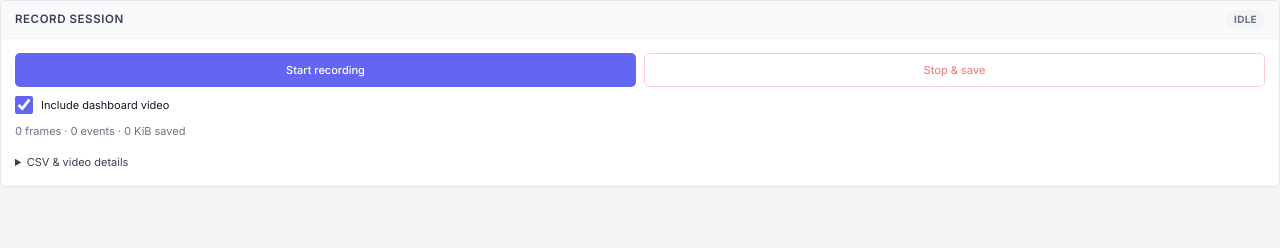
Scenario: compact recorder keeps start/stop and errors visible while help is collapsed
Click the button "Start recording" at (326,70), box [15,53,636,87]
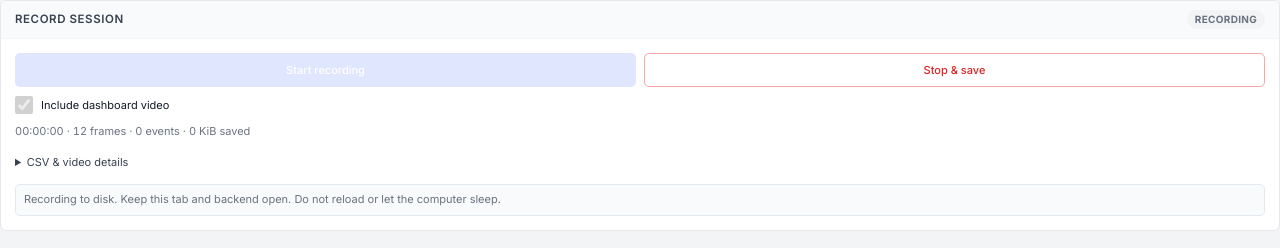
Expected: the button "Stop & save" is enabled
Click the button "Stop & save" at (954,70), box [644,53,1265,87]
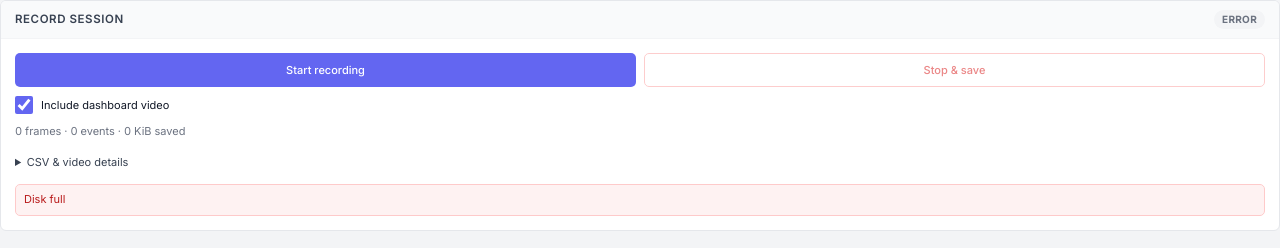
Expected: the message "Disk full" is shown, [15,184,1265,216]
